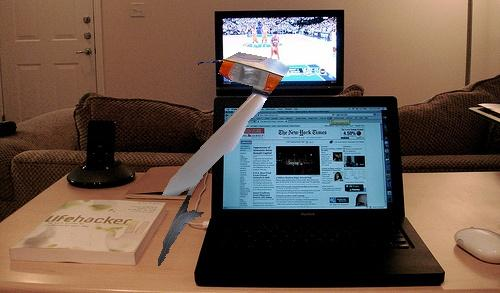tampered: (159, 53, 289, 266)
